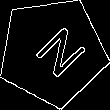N_SW: (21, 20, 84, 84)
